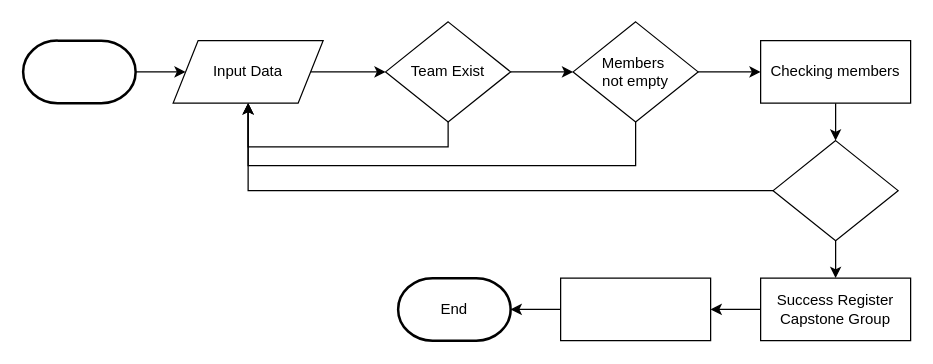
Image size: 933x364. Some labels were removed from this diagram. The centre of each missing label's shape, as x and y in pixels:
Members already have a team: the point at 835,190
Start: the point at 78,71
Wait for Validate: the point at 635,309
